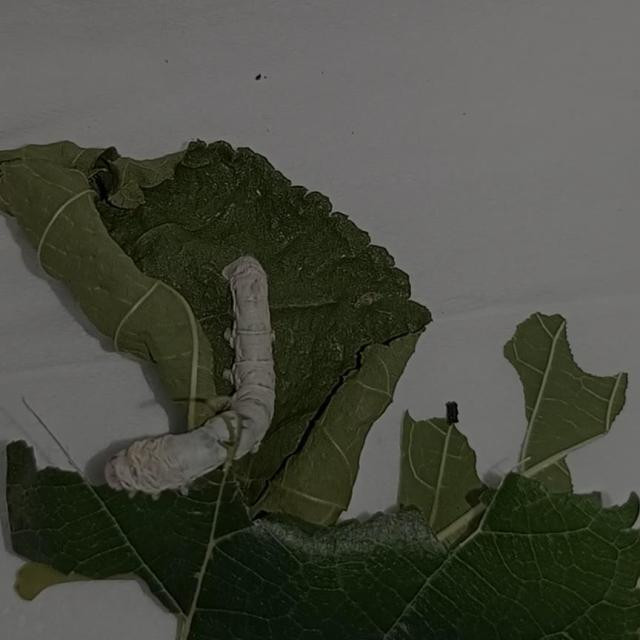Healthy: (96, 250, 305, 512)
